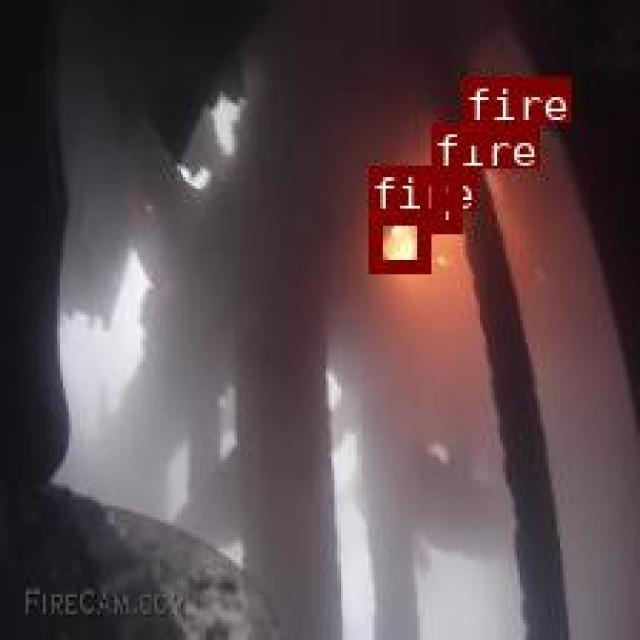fire: (368, 211, 429, 271), (430, 167, 460, 230), (462, 120, 489, 140)
